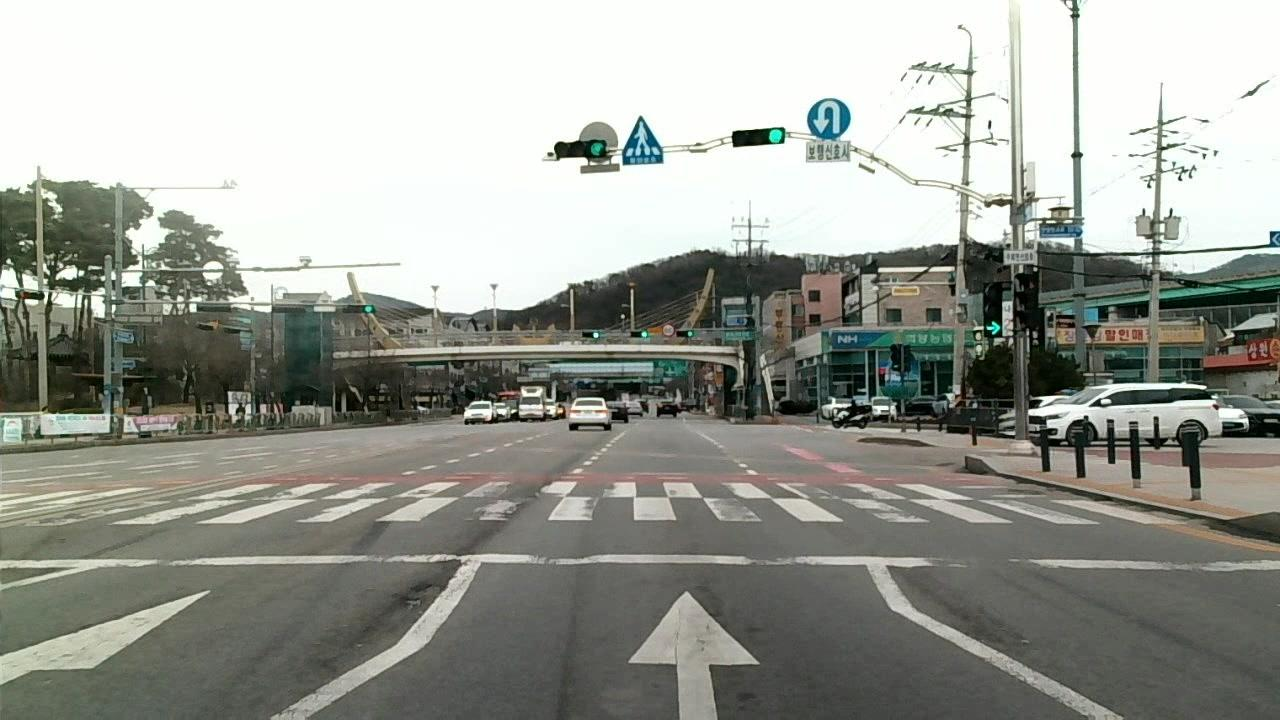vcrack: (357, 571, 453, 631)
